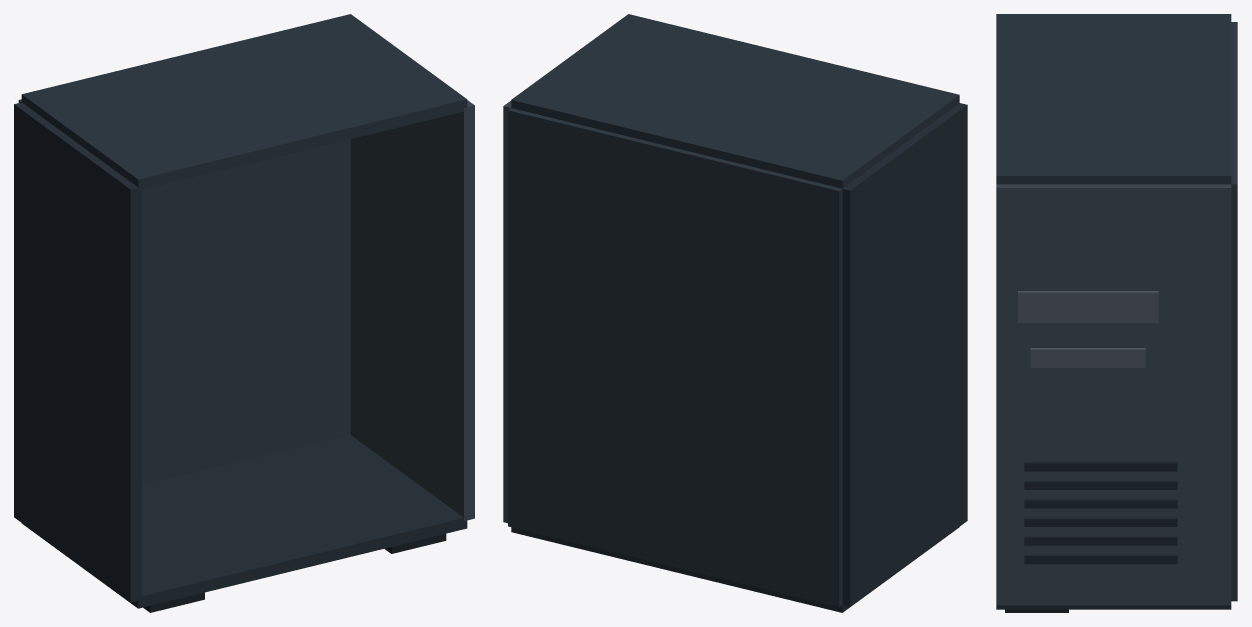
The model's file is gabinete_chasis.obj.
The picture shows the model from 3 angles, left to right: view 1: azimuth 30°, elevation 25°; view 2: azimuth 150°, elevation 25°; view 3: azimuth 270°, elevation 25°; orthographic projection.
Visible parts, largest first — view 1: gabinete_chasis.001, gabinete_chasis.002, gabinete_chasis.003, gabinete_chasis.004, gabinete_chasis.005; view 2: gabinete_chasis.001, gabinete_chasis.002, gabinete_chasis.004, gabinete_chasis.003, gabinete_chasis.005; view 3: gabinete_chasis.003, gabinete_chasis.004, gabinete_chasis.006, gabinete_chasis.001, gabinete_chasis.007, gabinete_chasis.013, gabinete_chasis.008, gabinete_chasis.009, gabinete_chasis.010, gabinete_chasis.011, gabinete_chasis.012, gabinete_chasis.005.
Part boxes in pixels (left/top/right/bottom): gabinete_chasis.001: left=18, top=99, right=350, bottom=485; gabinete_chasis.002: left=14, top=102, right=141, bottom=602; gabinete_chasis.003: left=350, top=100, right=474, bottom=520; gabinete_chasis.004: left=21, top=14, right=467, bottom=190; gabinete_chasis.005: left=21, top=435, right=467, bottom=608; gabinete_chasis.001: left=508, top=108, right=842, bottom=606; gabinete_chasis.002: left=842, top=103, right=967, bottom=606; gabinete_chasis.004: left=511, top=14, right=959, bottom=188; gabinete_chasis.003: left=503, top=100, right=511, bottom=523; gabinete_chasis.005: left=511, top=527, right=959, bottom=612; gabinete_chasis.003: left=996, top=184, right=1231, bottom=605; gabinete_chasis.004: left=996, top=14, right=1231, bottom=184; gabinete_chasis.006: left=1018, top=291, right=1158, bottom=322; gabinete_chasis.001: left=1231, top=22, right=1237, bottom=601; gabinete_chasis.007: left=1030, top=348, right=1145, bottom=367; gabinete_chasis.013: left=1024, top=554, right=1177, bottom=564; gabinete_chasis.008: left=1024, top=462, right=1177, bottom=471; gabinete_chasis.009: left=1024, top=480, right=1177, bottom=489; gabinete_chasis.010: left=1024, top=499, right=1177, bottom=508; gabinete_chasis.011: left=1024, top=517, right=1177, bottom=526; gabinete_chasis.012: left=1024, top=536, right=1177, bottom=545; gabinete_chasis.005: left=996, top=605, right=1231, bottom=609.
Bounding box in the file's own units: 0.317 × 0.384 × 0.189.
